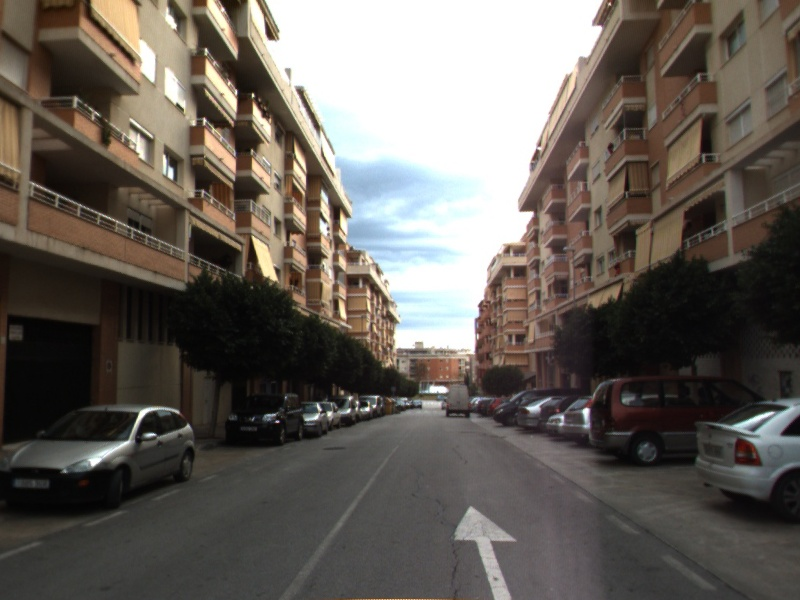STRAIGHT: (447, 502, 521, 600)
